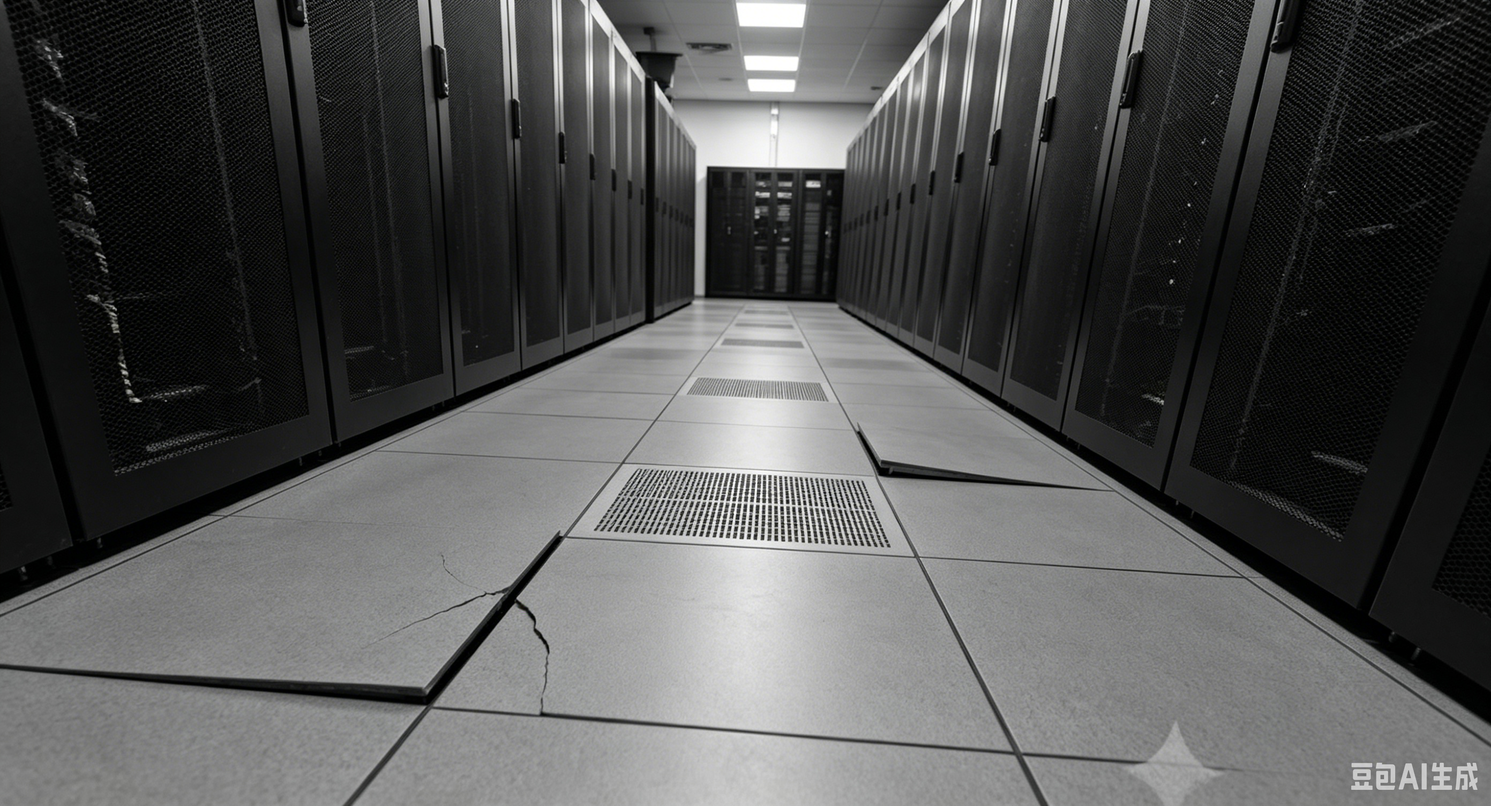floor_defect: (1, 648, 450, 714), (846, 406, 1105, 489), (509, 597, 598, 730), (430, 524, 574, 594), (379, 591, 507, 634), (450, 638, 507, 699)
